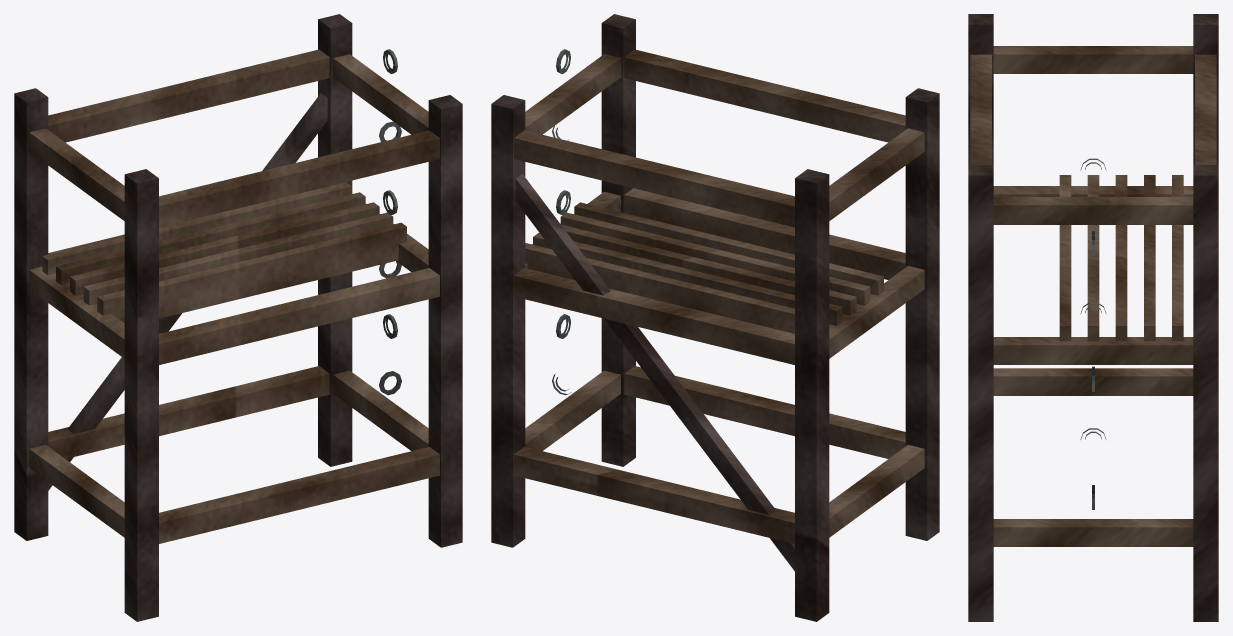
Rendered from 0445_scaffolding_20.glb.
3 views of the same model, side by side, from view 1: azimuth 30°, elevation 25°; view 2: azimuth 150°, elevation 25°; view 3: azimuth 270°, elevation 25° (orthographic).
Parts seen in each view (by area): view 1: wood, wood_dark, iron; view 2: wood, wood_dark, iron; view 3: wood, wood_dark, iron.
Part boxes in pixels (box(x1,y1,x2,y2)): wood: box(29, 49, 439, 543); wood_dark: box(14, 14, 462, 621); iron: box(379, 49, 401, 395); wood: box(514, 49, 924, 543); wood_dark: box(491, 14, 939, 621); iron: box(552, 49, 571, 395); wood: box(970, 46, 1216, 546); wood_dark: box(968, 14, 1218, 621); iron: box(1080, 158, 1106, 509).
Size of the model in its own units: 1.95 by 2.57 by 1.28.
3 materials, 3 textured.
